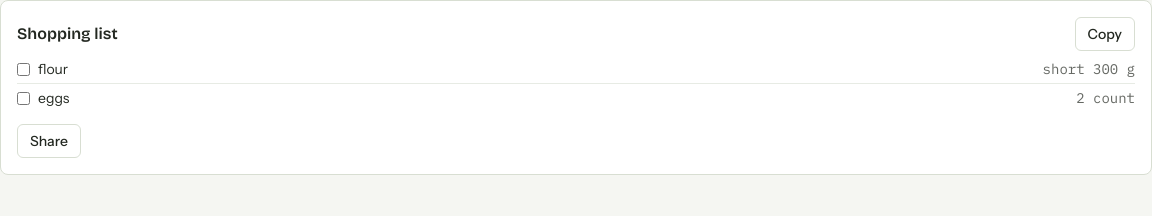
ShoppingList › Copy › shows a manual-copy fallback message if the clipboard write rejects
Click the button "Copy": (1105, 34) [1074,17,1135,51]
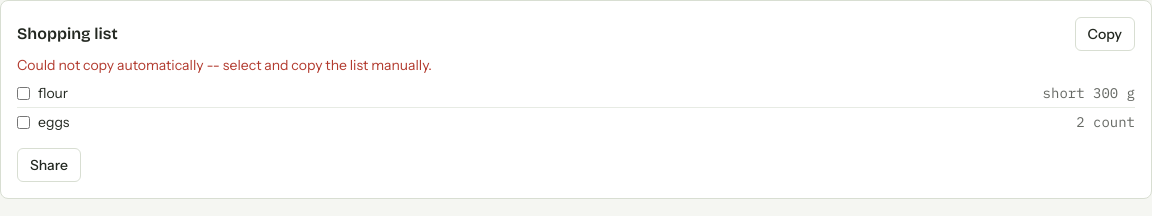
Expected: the text "Could not copy automatically -- select and copy the list manually." is shown, [17,56,432,74]
